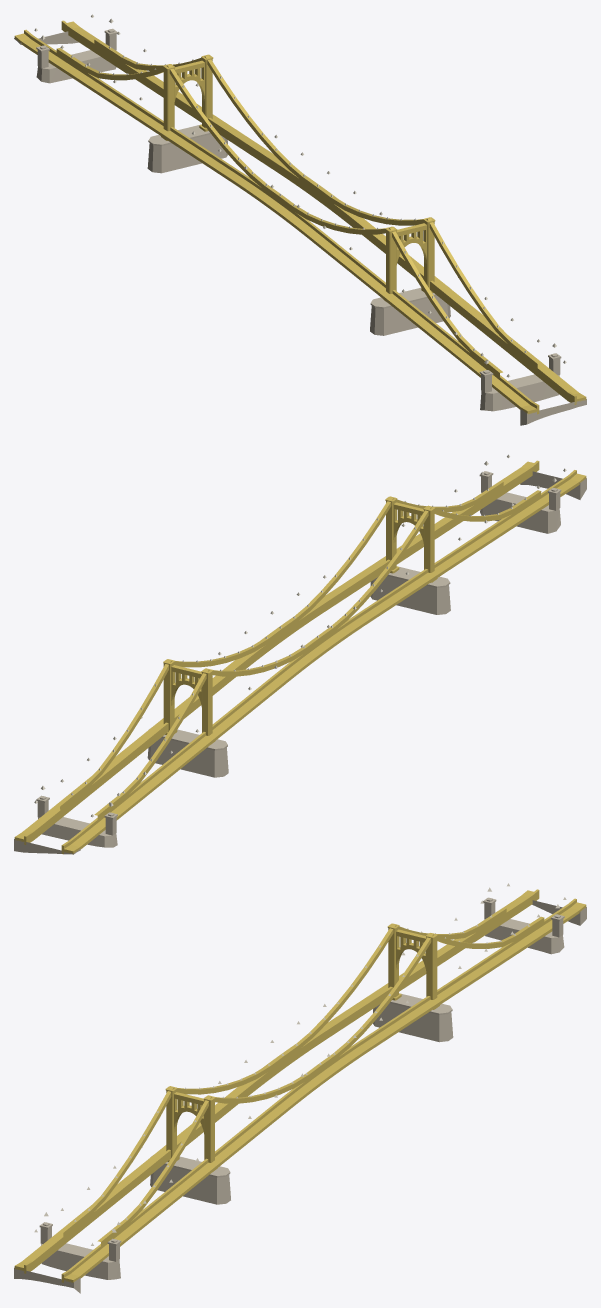
File: pit-roberto-clemente-bridge.glb
3 views of the same model, one above another, from view 1: azimuth 30°, elevation 25°; view 2: azimuth 150°, elevation 25°; view 3: azimuth 330°, elevation 25° (orthographic).
Visible parts, largest first — view 1: Roberto Clemente Bridge; view 2: Roberto Clemente Bridge; view 3: Roberto Clemente Bridge.
Boxes of the visible parts, x1=… form: Roberto Clemente Bridge: x1=14, y1=14, x2=586, y2=425; Roberto Clemente Bridge: x1=14, y1=454, x2=586, y2=854; Roberto Clemente Bridge: x1=14, y1=883, x2=586, y2=1293.
Size of the model in its own units: 26.1 by 32.75 by 303.
